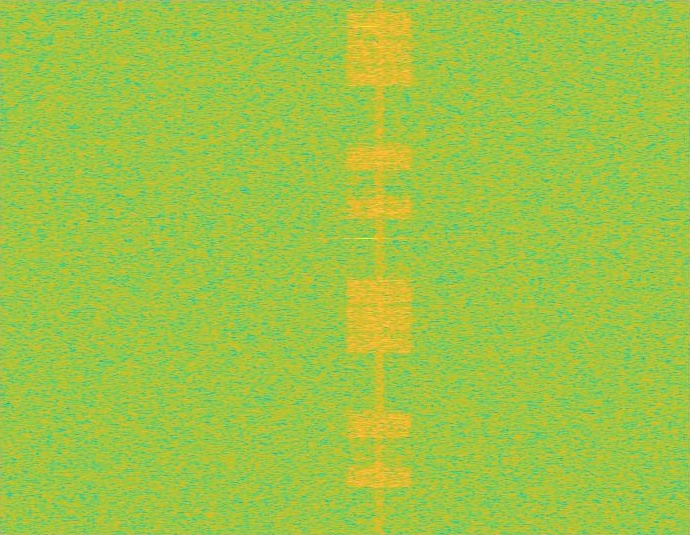DSSS: (375, 0, 384, 534)
LTE: (345, 0, 414, 534)
Radar: (360, 0, 374, 534)
